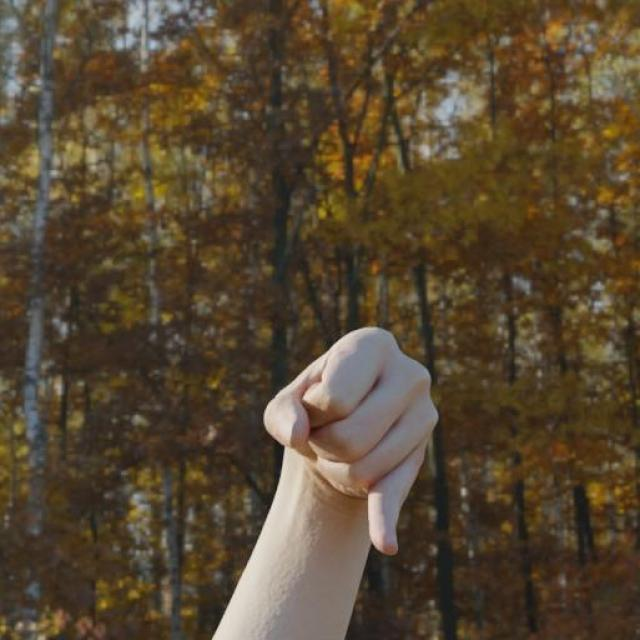J: (226, 301, 477, 631)
